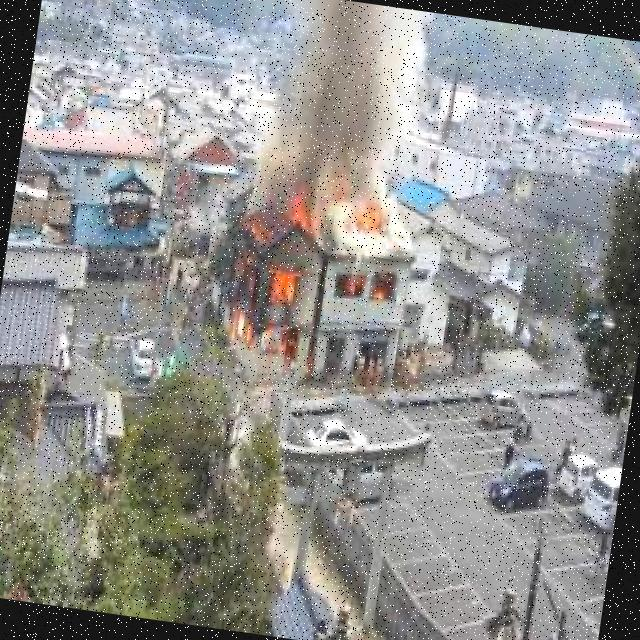Fire: (217, 197, 328, 363)
